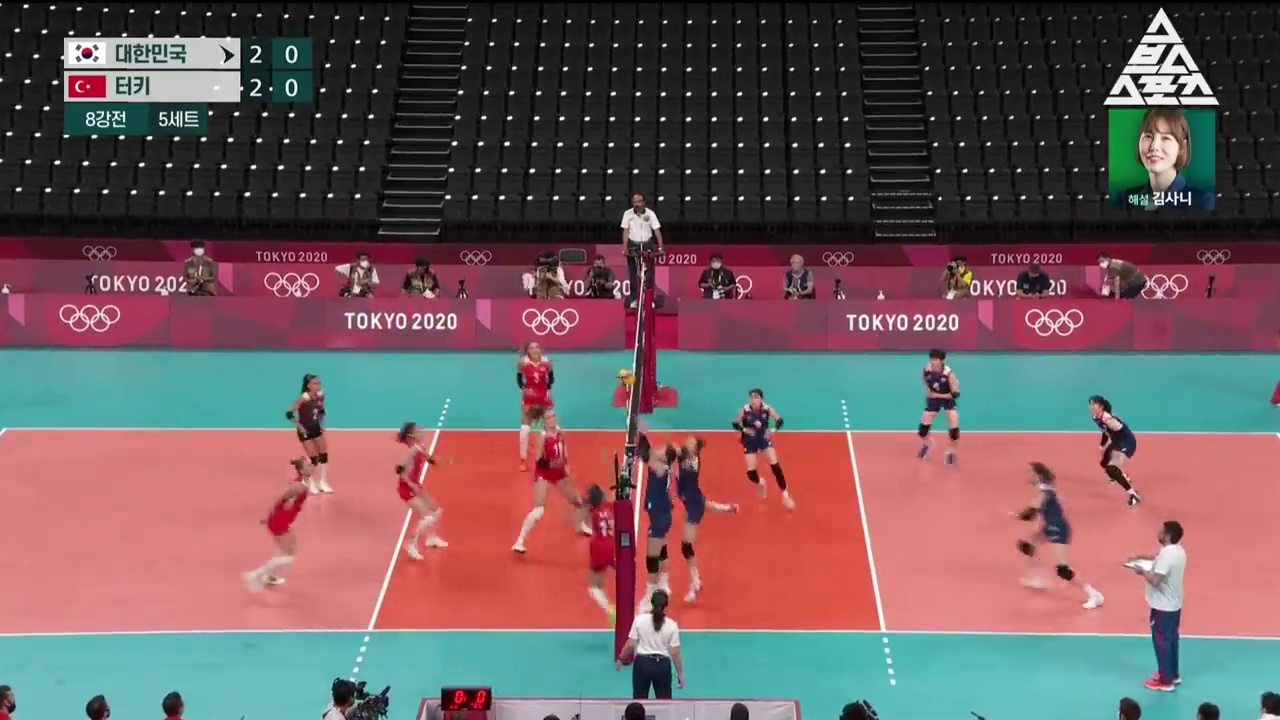ball: (619, 370, 636, 385)
player: (1007, 462, 1105, 610), (670, 436, 740, 601), (634, 416, 676, 612), (732, 388, 796, 509), (1089, 395, 1143, 510), (916, 349, 960, 465)
player 1: (513, 406, 596, 552), (568, 447, 624, 624), (243, 457, 315, 593), (394, 422, 456, 559), (285, 374, 334, 494), (517, 340, 555, 471)
referee: (617, 589, 685, 699), (621, 194, 663, 308)
